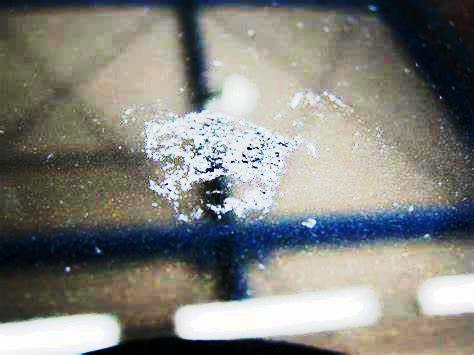Bird Poop: (145, 110, 303, 221), (289, 92, 346, 108), (302, 219, 316, 228), (306, 144, 315, 157)
